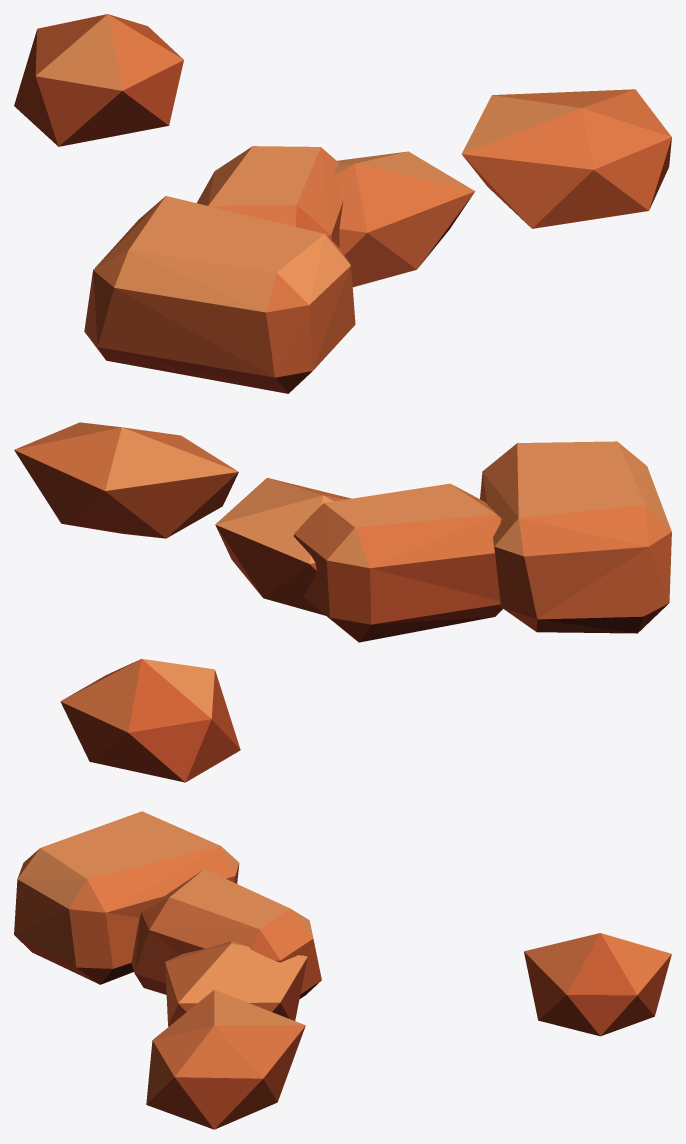
The model's file is SM_ROCK_S_09.fbx.
3 views of the same model, one above another, from view 1: azimuth 30°, elevation 25°; view 2: azimuth 150°, elevation 25°; view 3: azimuth 270°, elevation 25° (orthographic). The views are drawn at different scales.
Parts seen in each view (by area): view 1: ROCK_S_09; view 2: ROCK_S_09; view 3: ROCK_S_09.
Part boxes in pixels (<box>): ROCK_S_09: <box>14,14,671,393</box>; ROCK_S_09: <box>14,422,671,782</box>; ROCK_S_09: <box>14,811,671,1129</box>.
Bounding box in the file's own units: 0.6927 × 0.7595 × 0.1295.
